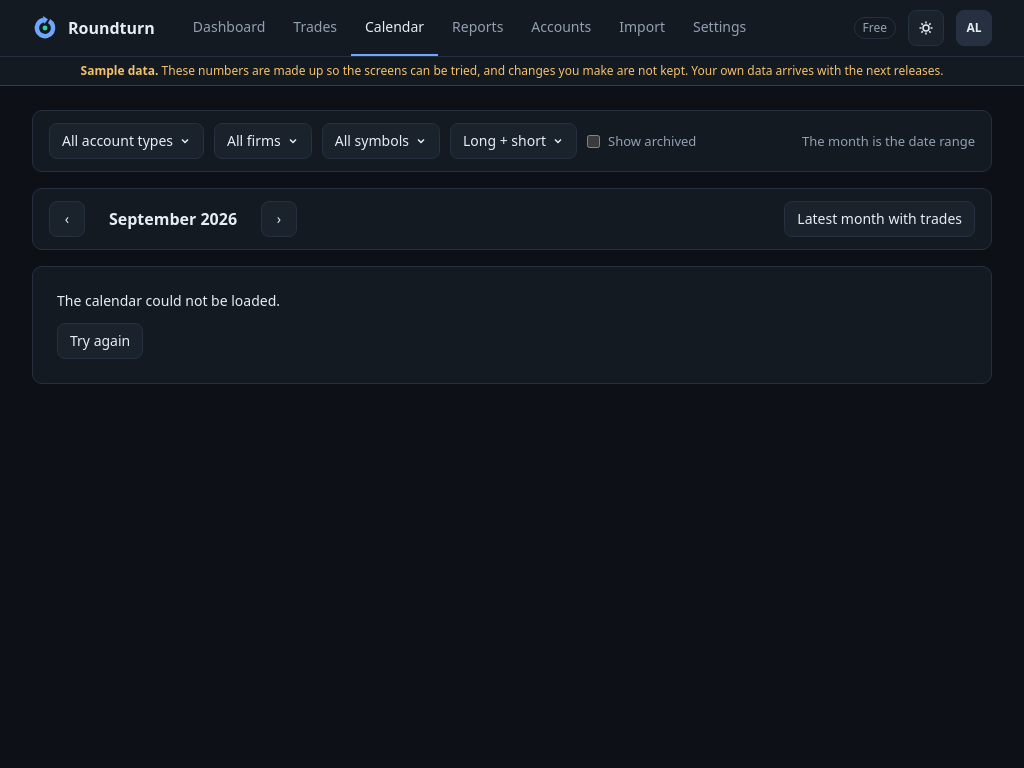
Test case: when something goes wrong › says the calendar could not be loaded and tries again on request
The image size is (1024, 768).
Check: the message shows "The calendar could not be loaded.", box x1=57 y1=291 x2=280 y2=310
Click the button "Try again". click: click(100, 341)
box: x1=57 y1=323 x2=143 y2=359
(page scrolled)
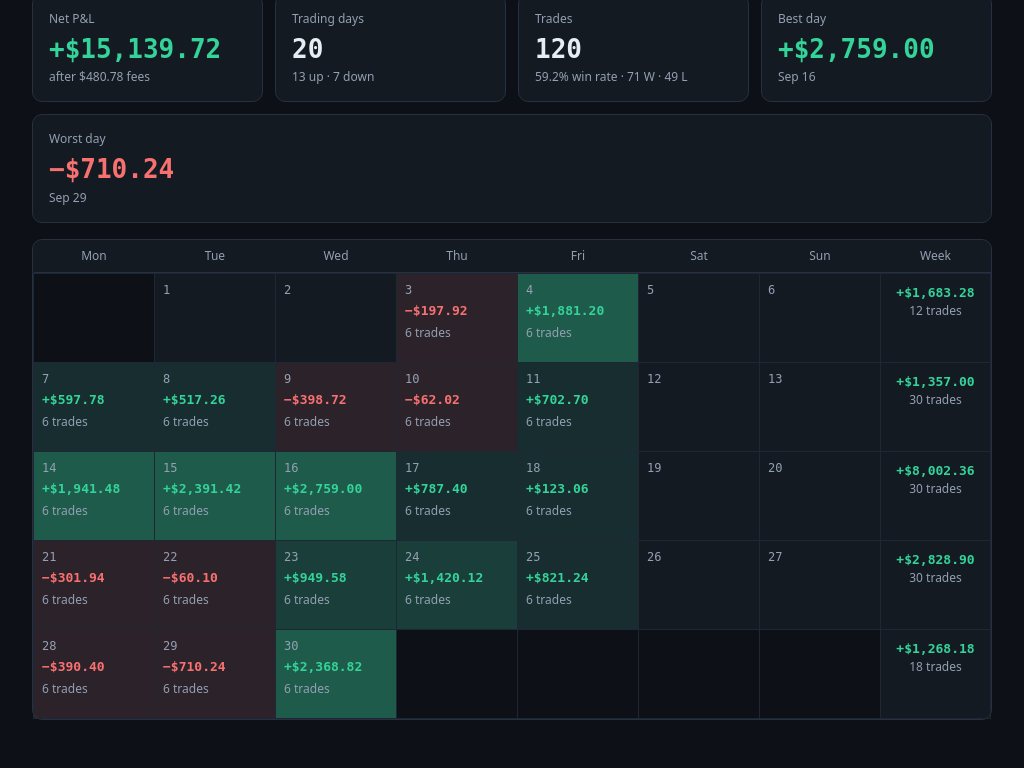
Check: the element named "Calendar" is shown, box x1=32 y1=239 x2=992 y2=720
Check: the message "The calendar could not be loaded. Try again" is gone
